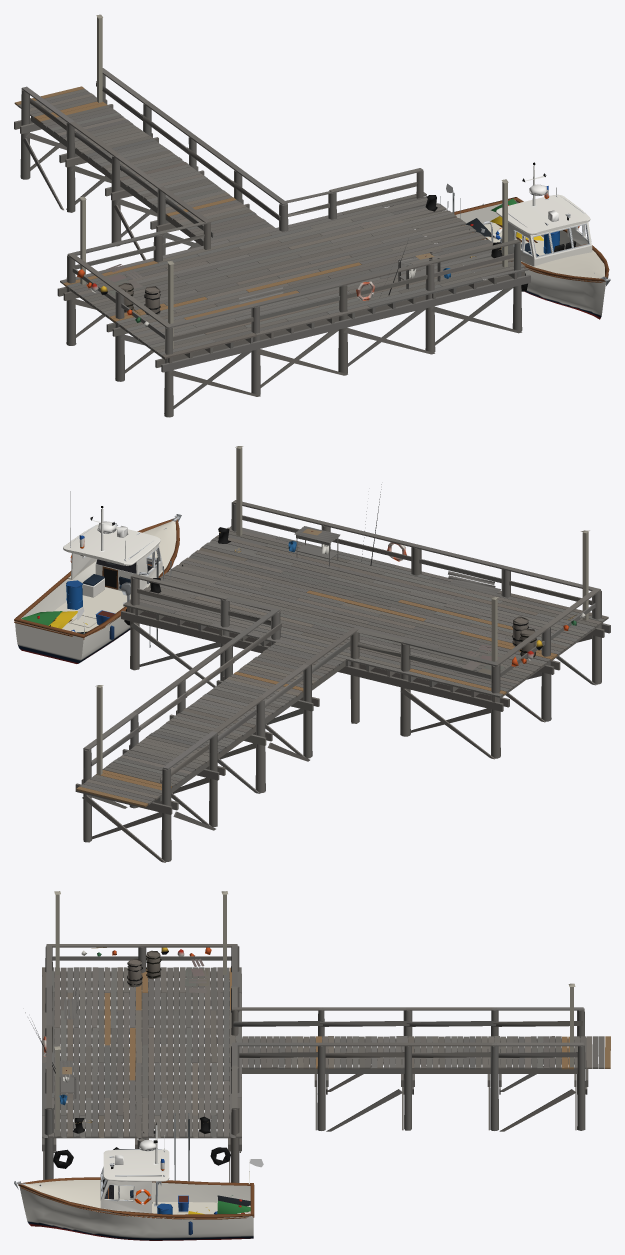
The model's file is overview.glb.
3 renders of one model, top to bottom at view 1: azimuth 30°, elevation 25°; view 2: azimuth 150°, elevation 25°; view 3: azimuth 270°, elevation 25°, orthographic. The views are drawn at different scales.
Visible parts, largest first — view 1: Native tidewater structure, Native tidewater boat; view 2: Native tidewater structure, Native tidewater boat; view 3: Native tidewater structure, Native tidewater boat.
Part boxes in pixels (x1,y1,x2,y2): Native tidewater structure: (14,14,530,417); Native tidewater boat: (446,162,610,319); Native tidewater structure: (75,446,610,862); Native tidewater boat: (14,491,181,663); Native tidewater structure: (25,891,610,1182); Native tidewater boat: (14,1122,263,1240).
Size of the model in its own units: 8.71 by 2.62 by 10.04.
